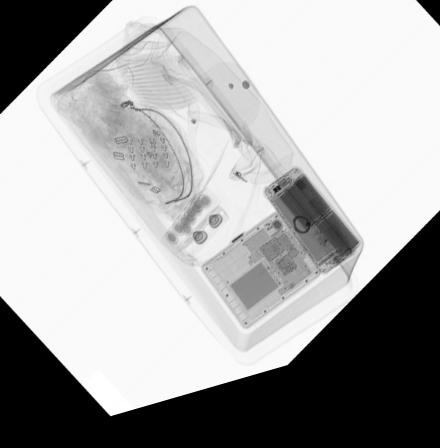Powerbank: (275, 188, 360, 287)
